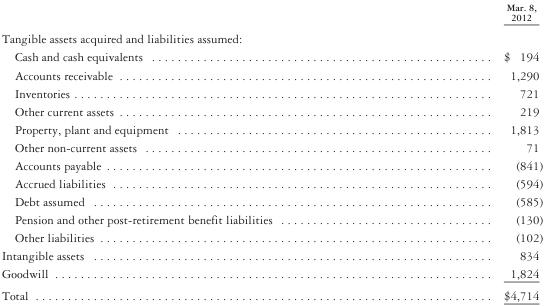table: (0, 1, 542, 302)
table column: (0, 1, 387, 302), (387, 1, 542, 302)
table column header: (0, 1, 542, 27)
table projected row header: (0, 27, 542, 47)
table row: (0, 1, 542, 27), (0, 27, 542, 47), (0, 264, 542, 284), (0, 119, 542, 138), (0, 47, 542, 65), (0, 65, 542, 83), (0, 83, 542, 101), (0, 101, 542, 119), (0, 138, 542, 156), (0, 156, 542, 174), (0, 174, 542, 192), (0, 192, 542, 210), (0, 210, 542, 228), (0, 228, 542, 246), (0, 246, 542, 264), (0, 284, 542, 302)
